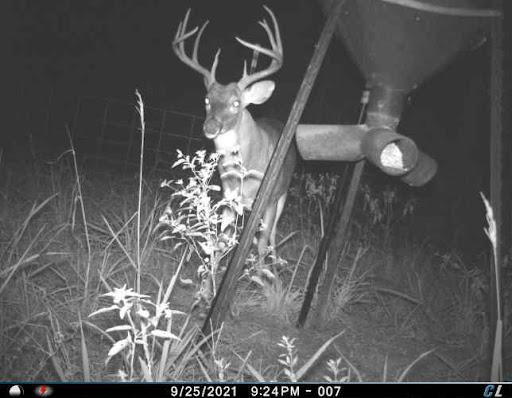Deer: (166, 2, 295, 283)
